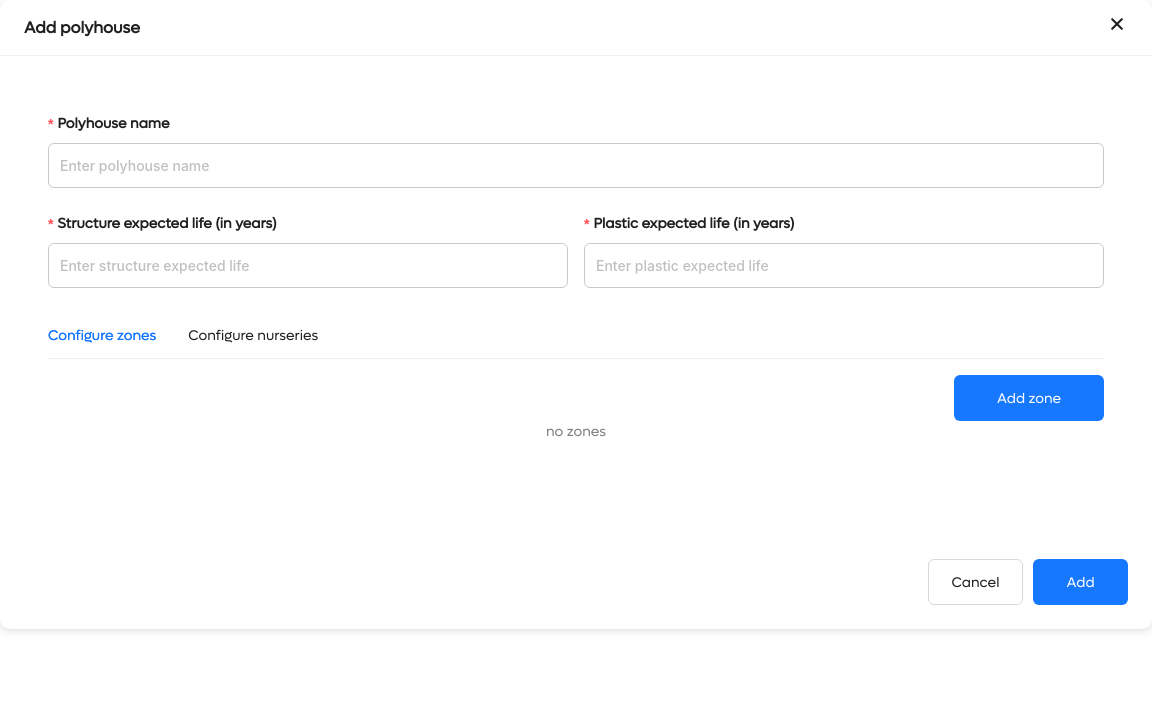
Add polyhouse page › should display validation errors for invalid inputs
Click the tab "Configure nurseries" at [253, 336], box [188, 325, 318, 347]
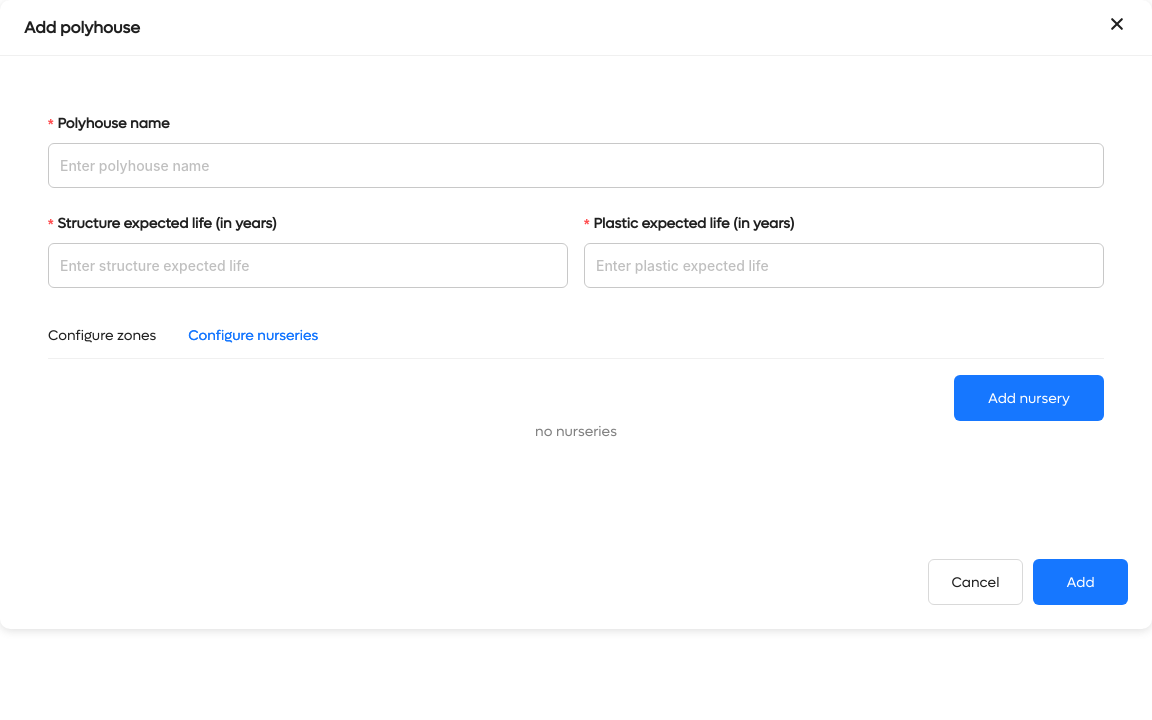
Result: the text "Add nursery" is shown at [988, 388, 1070, 408]
Click the button "Add nursery" at [1029, 398], box [954, 375, 1104, 421]
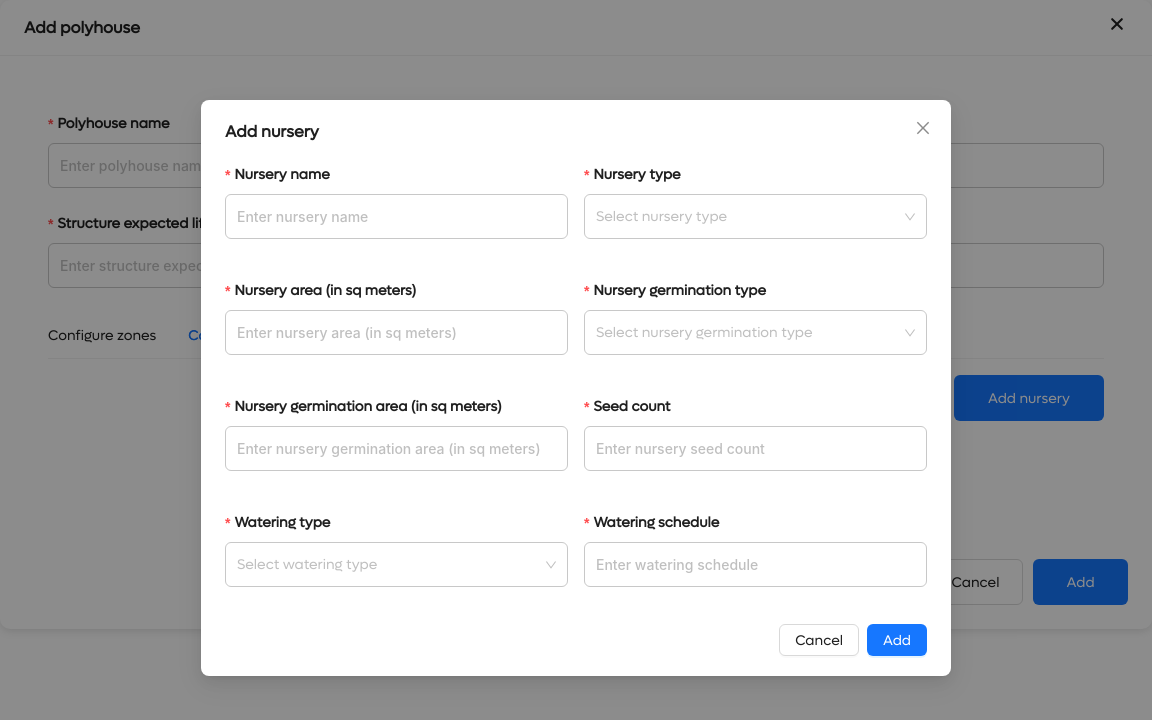
Type "invalid" into the field labelled "Nursery area (in sq meters)" at [396, 332], box [225, 310, 568, 355]
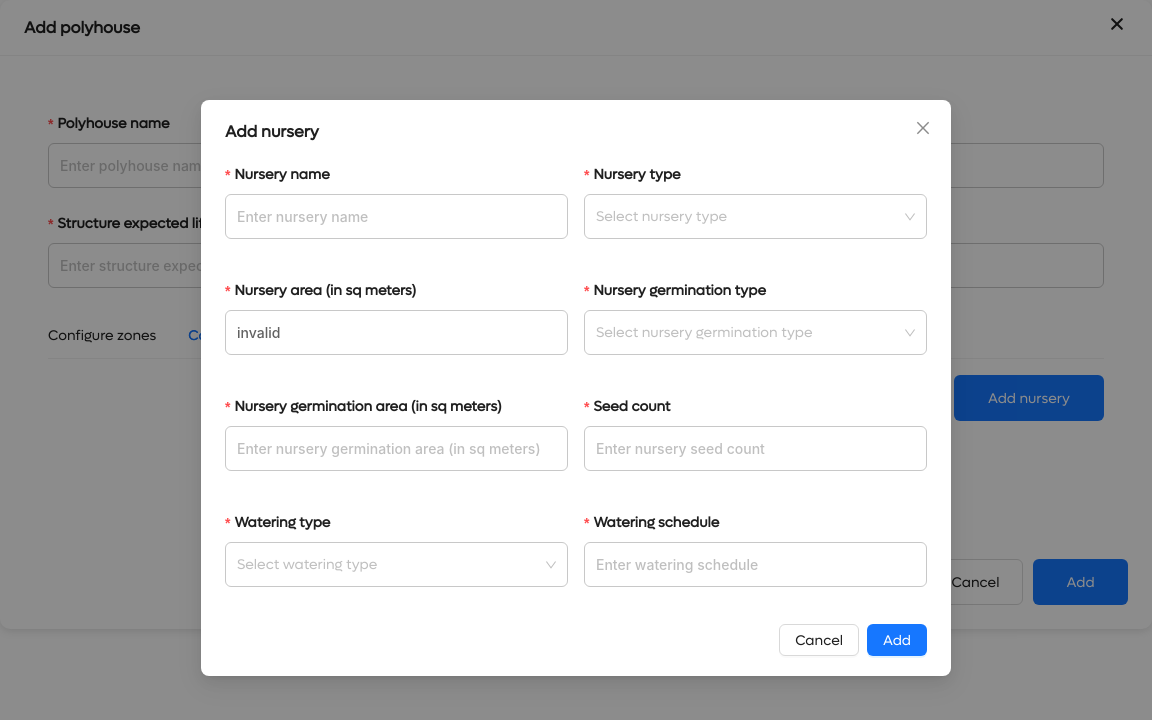
Type "invalid" into the field labelled "Nursery germination area (in sq meters)" at [396, 448], box [225, 426, 568, 471]
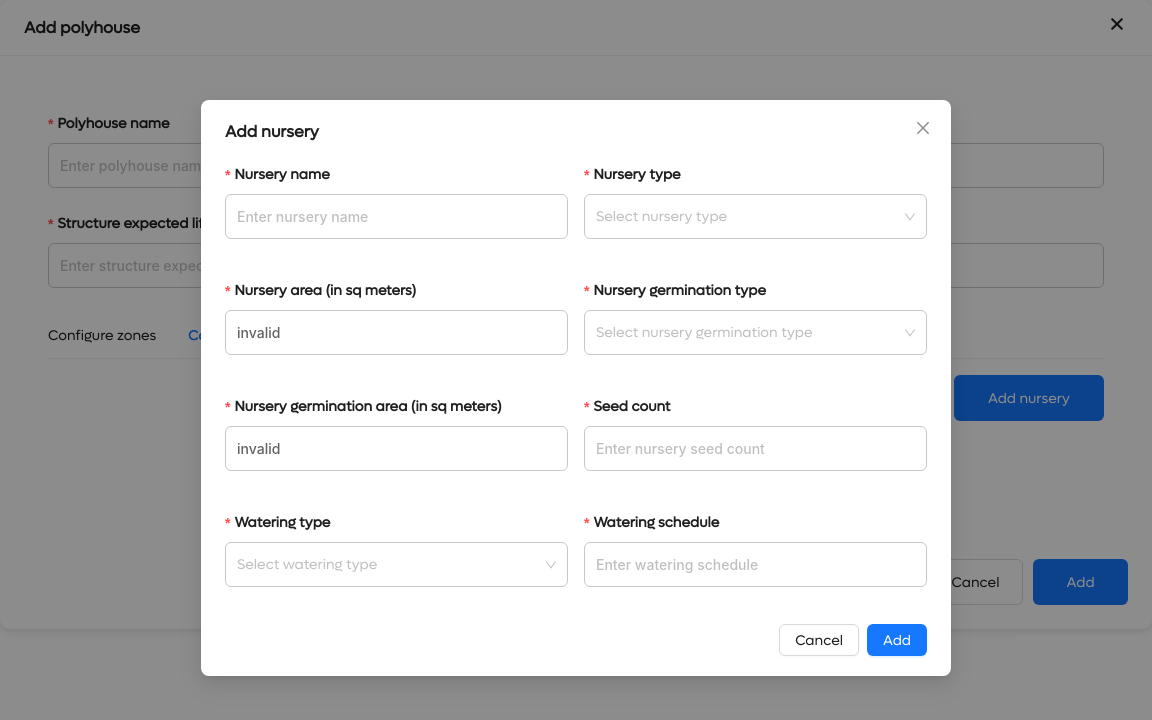
Type "invalid" into the field labelled "Seed count" at [756, 448], box [584, 426, 927, 471]
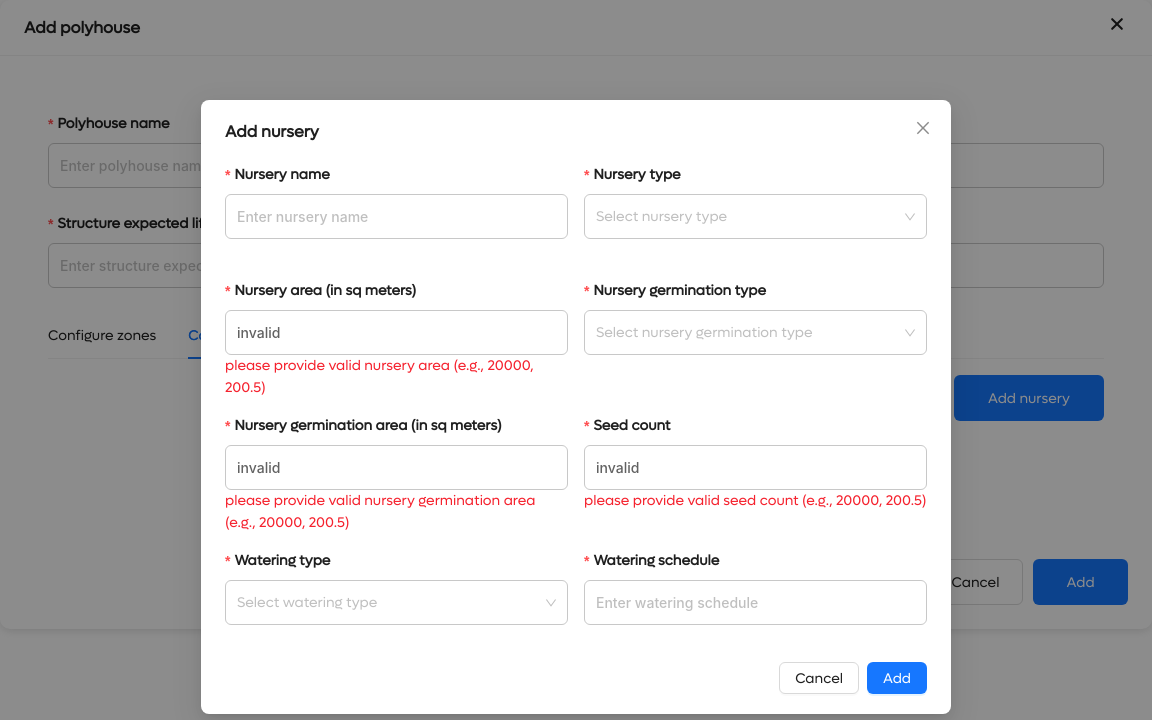
Result: the text "please provide valid nursery area (e.g., 20000, 200.5)" is shown at [225, 355, 568, 399]
Result: the text "please provide valid nursery germination area (e.g., 20000, 200.5)" is shown at [225, 490, 568, 534]
Result: the text "please provide valid seed count (e.g., 20000, 200.5)" is shown at [584, 490, 927, 512]
